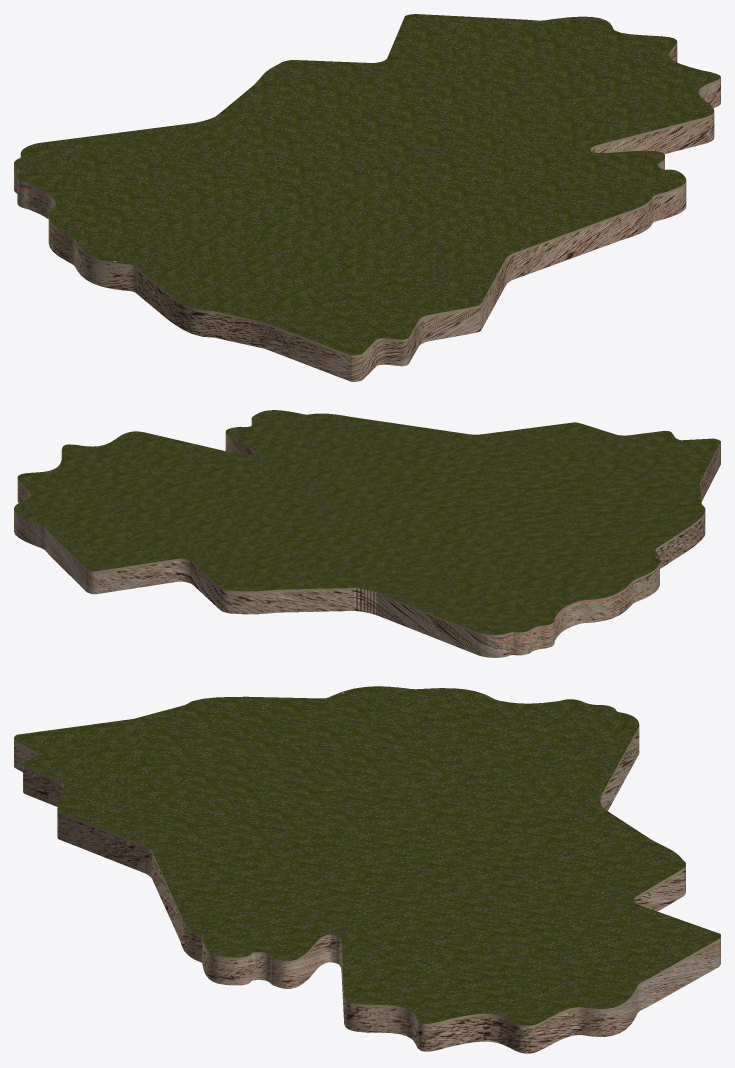
The model's file is spring.FBX.
3 views of the same model, one above another, from view 1: azimuth 30°, elevation 25°; view 2: azimuth 150°, elevation 25°; view 3: azimuth 270°, elevation 25° (orthographic). The views are drawn at different scales.
Parts seen in each view (by area): view 1: Line004, Line008; view 2: Line004, Line008; view 3: Line004, Line008.
Boxes of the visible parts, bbox=[...] form: Line004: bbox=[14, 14, 720, 357]; Line008: bbox=[14, 45, 720, 381]; Line004: bbox=[14, 410, 720, 636]; Line008: bbox=[14, 422, 720, 657]; Line004: bbox=[14, 686, 720, 1028]; Line008: bbox=[14, 729, 720, 1053].
Size of the model in its own units: 1106 by 42.31 by 973.
Materials: 2 (2 with a texture image).
